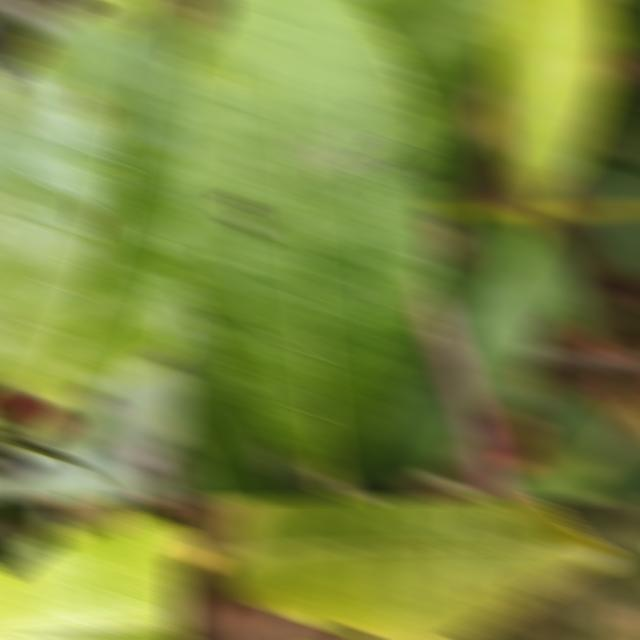Leaf: (171, 0, 441, 478), (0, 0, 187, 403), (217, 496, 618, 640), (488, 0, 614, 234), (350, 0, 506, 176), (171, 267, 283, 502), (428, 223, 557, 422), (0, 515, 187, 640), (344, 321, 475, 487), (91, 360, 187, 461), (527, 370, 620, 460), (24, 436, 135, 502), (497, 453, 598, 502), (568, 143, 640, 207), (578, 212, 640, 281), (584, 441, 640, 502), (74, 496, 136, 531)
